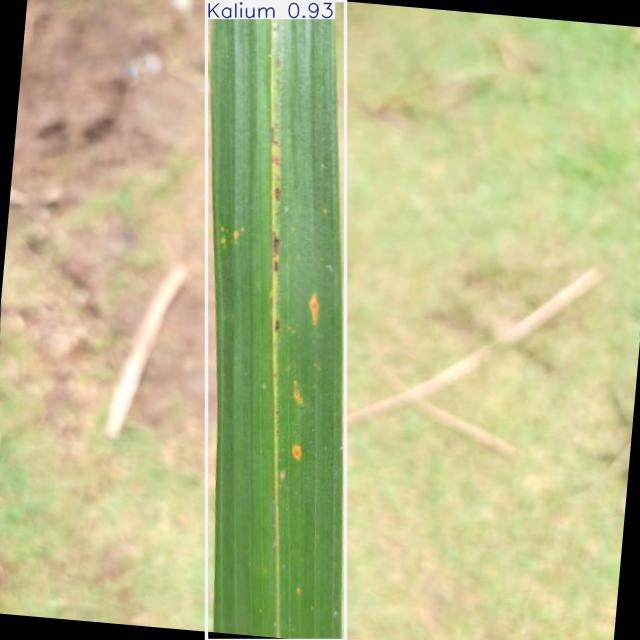Kalium: (206, 0, 345, 640)
